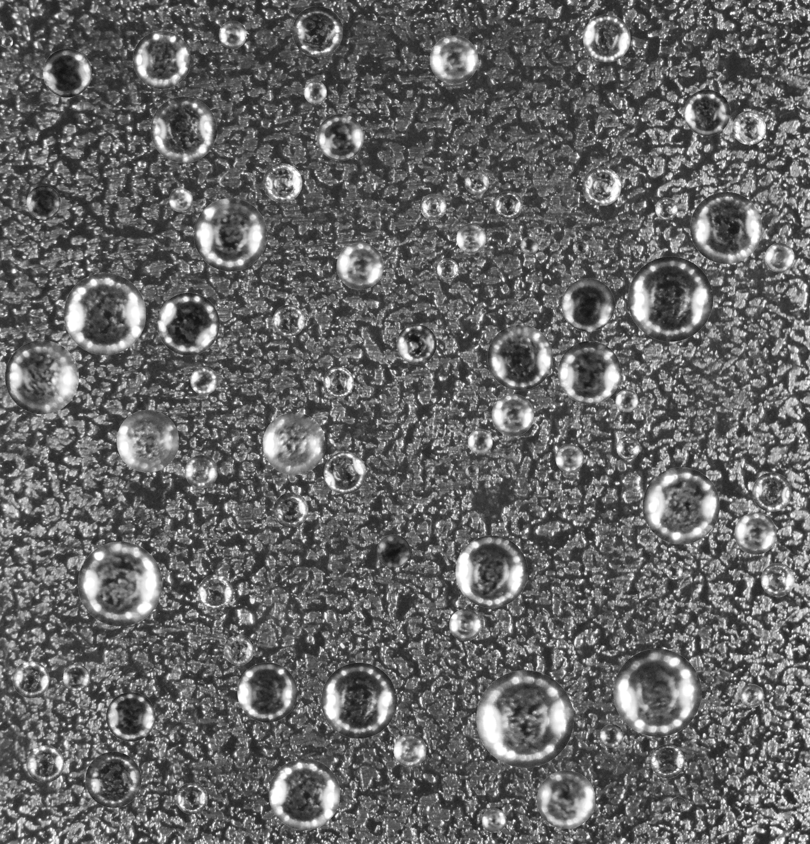Bubble: (476, 670, 573, 767), (613, 648, 701, 736), (77, 541, 162, 626), (628, 256, 713, 341), (63, 273, 145, 355), (642, 467, 719, 544), (321, 662, 396, 738), (5, 340, 78, 414), (193, 198, 267, 271), (690, 191, 762, 263), (268, 758, 340, 830), (455, 535, 527, 607), (150, 96, 216, 162), (487, 324, 553, 390), (262, 412, 325, 475), (558, 341, 621, 404), (157, 292, 219, 355), (116, 410, 178, 472), (237, 662, 297, 722), (132, 30, 190, 88), (537, 770, 595, 828), (85, 751, 141, 807), (561, 278, 614, 331), (292, 6, 342, 56), (106, 692, 155, 741), (42, 48, 91, 97), (429, 35, 478, 83), (583, 14, 630, 62), (336, 242, 383, 289), (684, 89, 730, 135), (317, 114, 363, 160), (323, 451, 366, 494), (491, 394, 534, 436), (734, 512, 776, 554), (396, 324, 436, 364), (262, 163, 302, 202), (752, 472, 791, 511), (582, 167, 621, 205), (26, 745, 63, 782), (12, 661, 49, 698), (198, 574, 233, 609), (273, 492, 308, 527), (650, 744, 684, 778), (26, 185, 60, 219), (732, 111, 766, 144), (184, 455, 217, 488), (377, 534, 410, 567), (761, 563, 794, 596), (393, 734, 426, 766), (272, 304, 304, 336), (449, 609, 481, 641), (176, 782, 207, 814), (223, 634, 254, 665), (456, 223, 486, 253), (323, 367, 353, 397), (765, 242, 794, 272), (494, 191, 522, 219), (555, 444, 583, 472), (218, 20, 246, 48), (190, 367, 217, 394), (63, 664, 89, 691), (420, 193, 446, 219), (467, 429, 492, 454), (464, 170, 489, 194), (481, 808, 506, 832), (169, 188, 192, 212), (600, 724, 623, 747), (303, 80, 326, 103), (616, 436, 639, 459), (615, 389, 638, 412), (740, 684, 763, 707), (655, 197, 677, 220), (437, 258, 458, 279), (520, 236, 538, 254), (666, 563, 682, 579), (573, 239, 588, 255), (670, 797, 686, 812), (577, 59, 592, 74), (465, 463, 478, 477), (0, 35, 12, 47)
